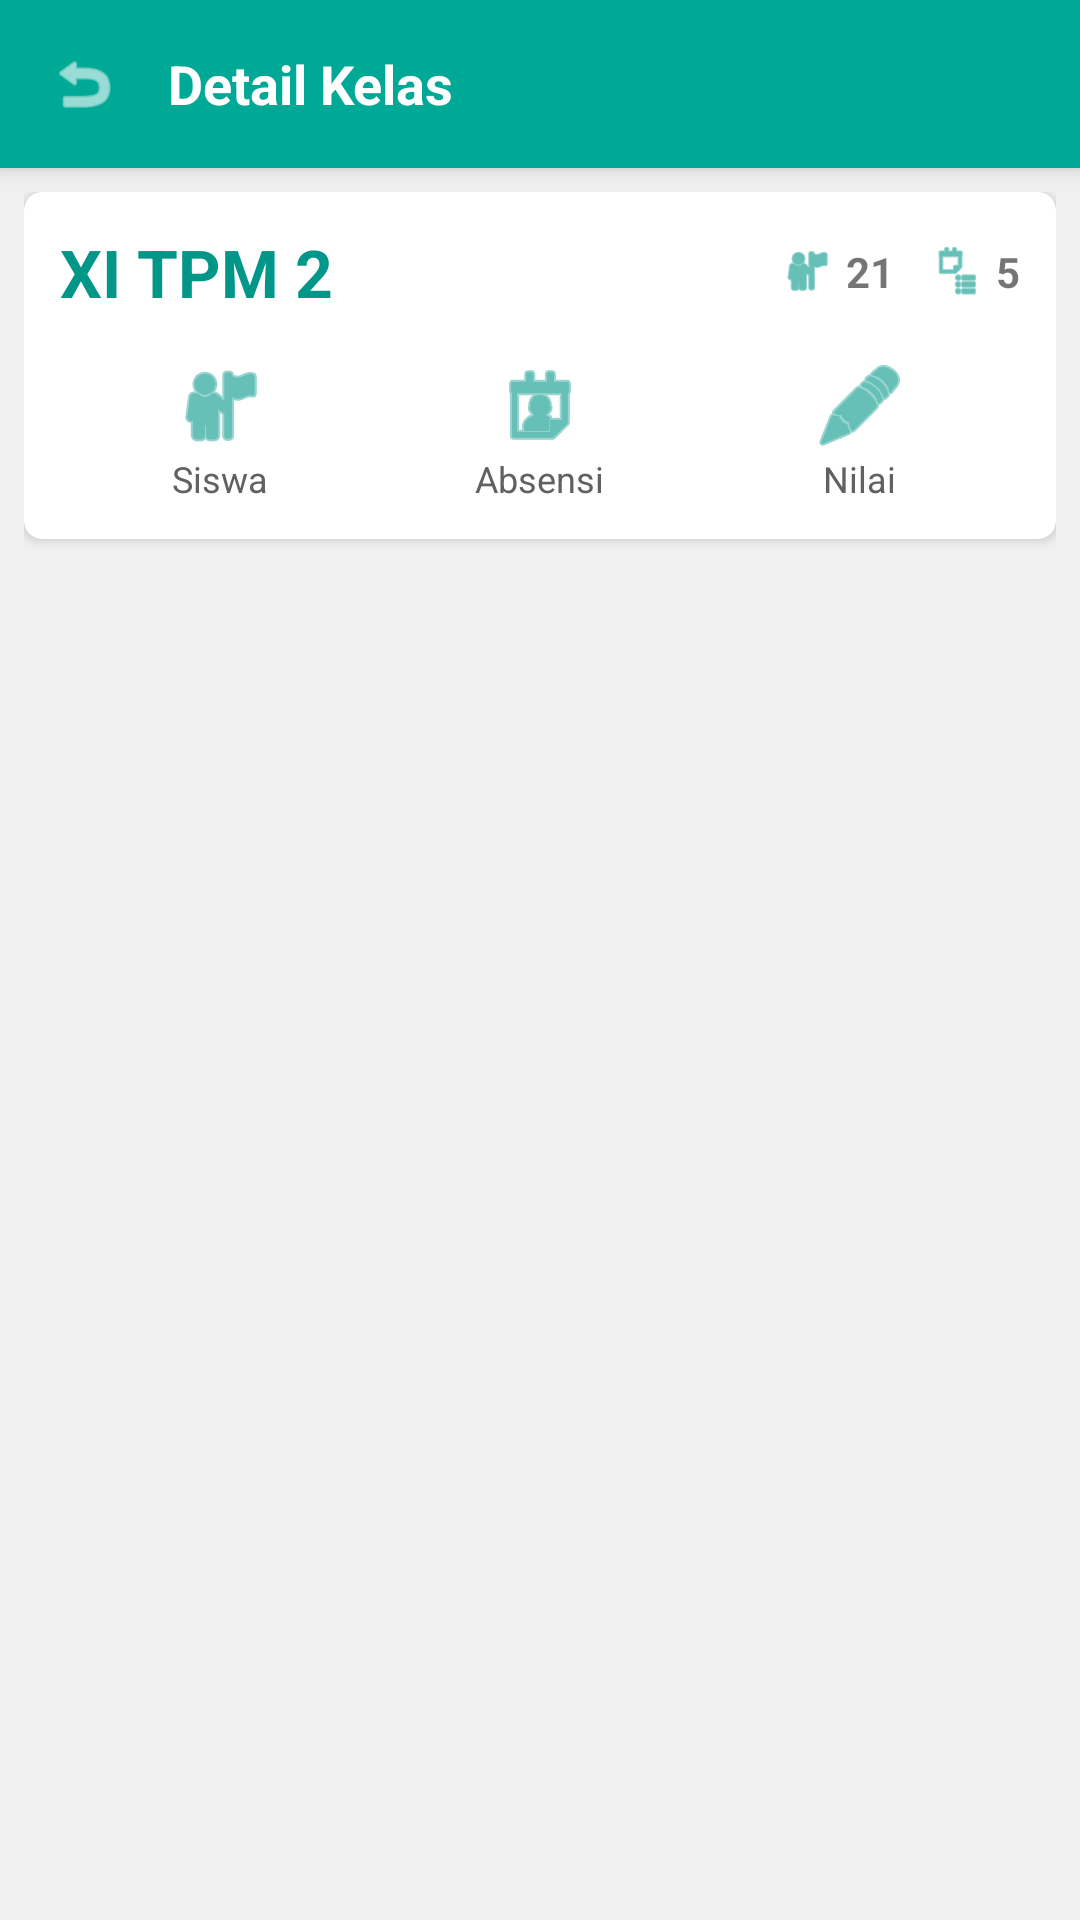

Screen size 1080w x 1920h. Icon name, then its center in pixels as [x,y]:
agenda: [957,271]
calendar: [540,405]
edit: [859,405]
Kembali: [85,84]
